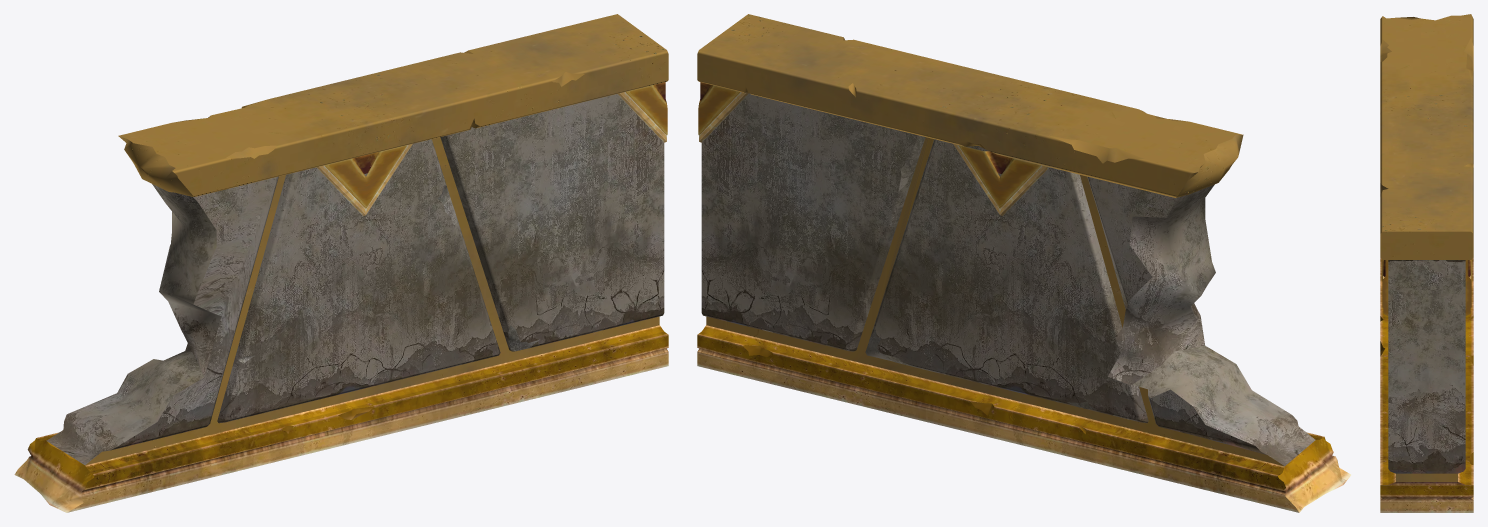
The picture shows the model from 3 angles, left to right: view 1: azimuth 30°, elevation 25°; view 2: azimuth 150°, elevation 25°; view 3: azimuth 270°, elevation 25°; orthographic projection. The views are drawn at different scales.
Parts seen in each view (by area): view 1: SM_Vault_4x2m_Wall_Dmg_01_V1_LOD0; view 2: SM_Vault_4x2m_Wall_Dmg_01_V1_LOD0; view 3: SM_Vault_4x2m_Wall_Dmg_01_V1_LOD0.
Part boxes in pixels (box(x1,y1,x2,y2)): SM_Vault_4x2m_Wall_Dmg_01_V1_LOD0: box(14, 14, 668, 512); SM_Vault_4x2m_Wall_Dmg_01_V1_LOD0: box(697, 14, 1350, 512); SM_Vault_4x2m_Wall_Dmg_01_V1_LOD0: box(1380, 14, 1473, 512).
Size of the model in its own units: 4.03 by 2 by 0.6.
4 materials, 4 textured.
